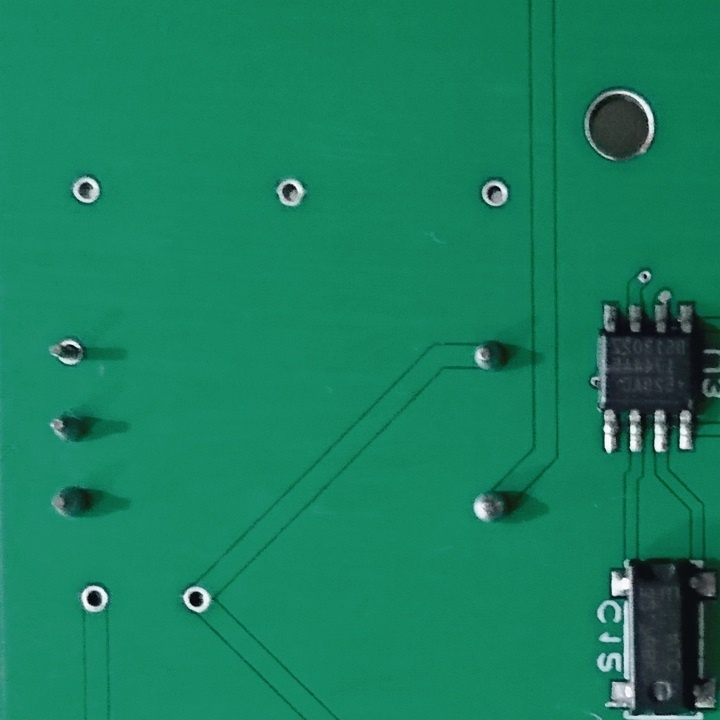F: (42, 336, 86, 368), (66, 172, 103, 208), (271, 176, 308, 212), (178, 582, 214, 618), (478, 176, 512, 213), (78, 583, 112, 617)
